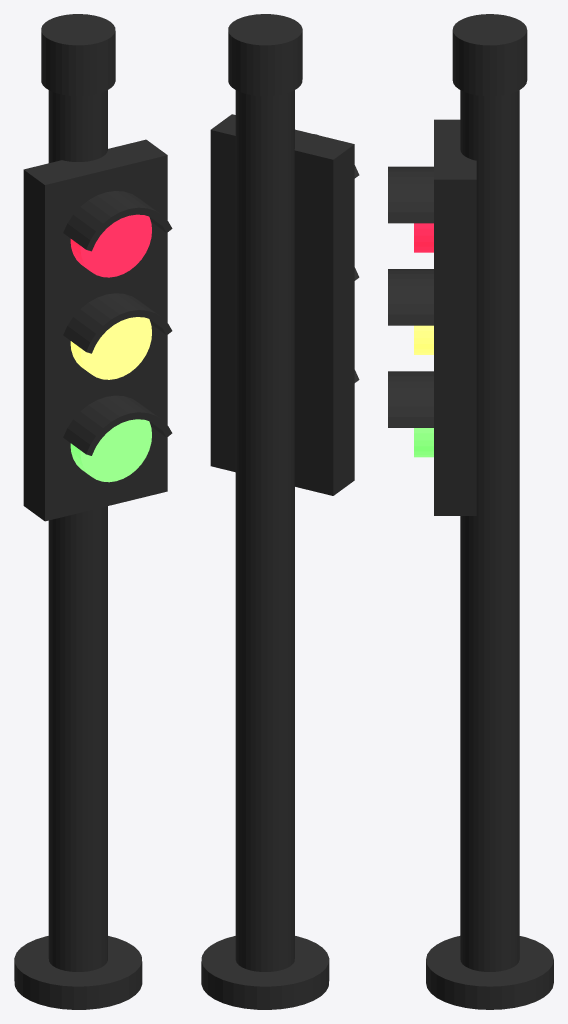
Rendered from traffic_light.fbx.
3 views of the same model, side by side, from view 1: azimuth 30°, elevation 25°; view 2: azimuth 150°, elevation 25°; view 3: azimuth 270°, elevation 25° (orthographic).
Parts seen in each view (by area): view 1: Black, Green, Yellow, Red; view 2: Black; view 3: Black, Green, Red, Yellow.
Boxes of the visible parts, x1,y1,x2,y2 form: Black: [14, 14, 172, 1009]; Green: [70, 419, 151, 482]; Yellow: [70, 317, 151, 379]; Red: [70, 214, 151, 277]; Black: [201, 14, 359, 1009]; Black: [388, 14, 553, 1009]; Green: [414, 428, 433, 457]; Red: [414, 223, 433, 252]; Yellow: [414, 325, 433, 354].
Bounding box in the file's own units: 138 × 1025 × 162.
